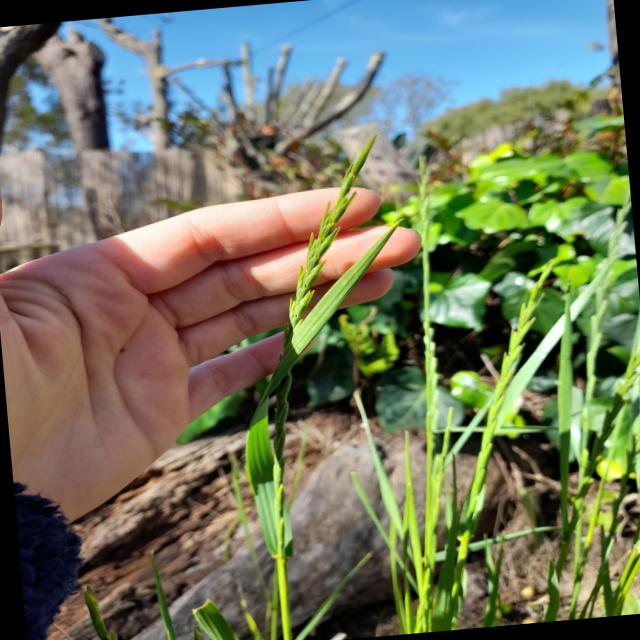Lolium: (237, 140, 413, 526), (421, 261, 575, 562), (548, 260, 634, 606), (556, 350, 640, 580)
